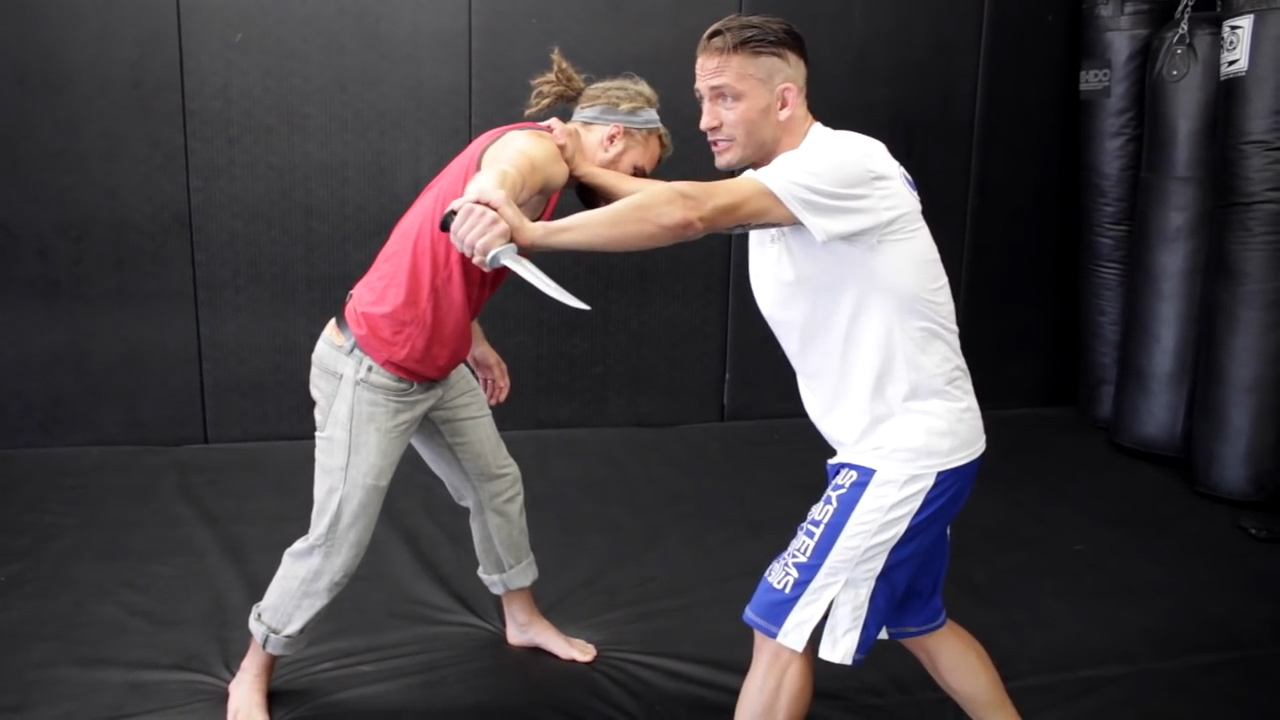knife: (434, 203, 604, 324)
